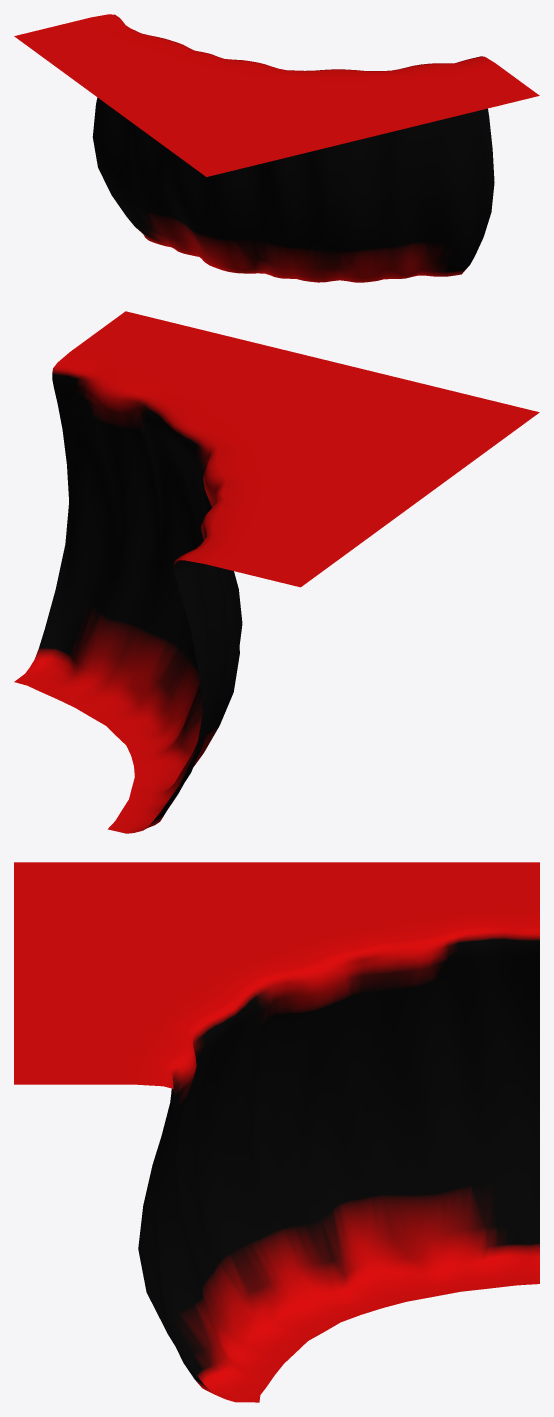
File: GroundCliff04B 2M Foreground.fbx
The picture shows the model from 3 angles, top to bottom: view 1: azimuth 30°, elevation 25°; view 2: azimuth 150°, elevation 25°; view 3: azimuth 270°, elevation 25°; orthographic projection. The views are drawn at different scales.
Parts seen in each view (by area): view 1: GroundCliff04B 2M Foreground; view 2: GroundCliff04B 2M Foreground; view 3: GroundCliff04B 2M Foreground.
Part boxes in pixels (x1,y1,x2,y2): GroundCliff04B 2M Foreground: (14,14,539,282); GroundCliff04B 2M Foreground: (14,311,539,833); GroundCliff04B 2M Foreground: (14,862,539,1402).
Size of the model in its own units: 3 by 2 by 3.
